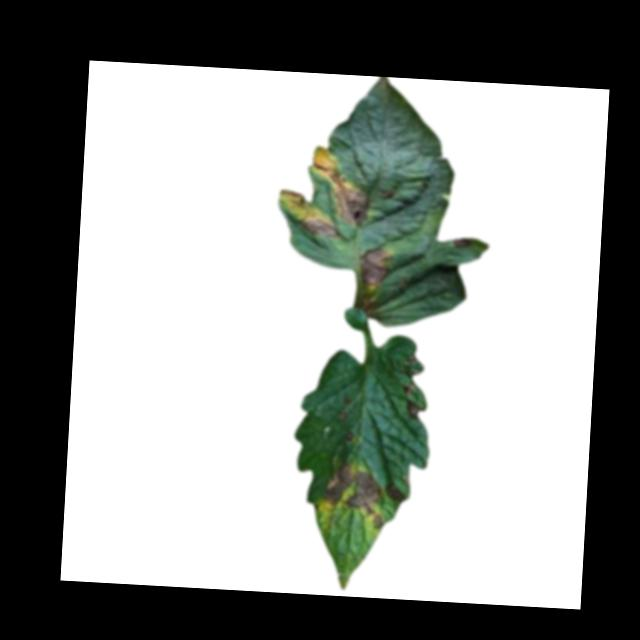Early_blight: (308, 143, 375, 227), (320, 459, 388, 530), (357, 245, 392, 286), (278, 187, 320, 216), (303, 214, 336, 236), (384, 480, 407, 504), (405, 399, 422, 420), (453, 235, 475, 248), (335, 409, 350, 423), (343, 430, 357, 443)
